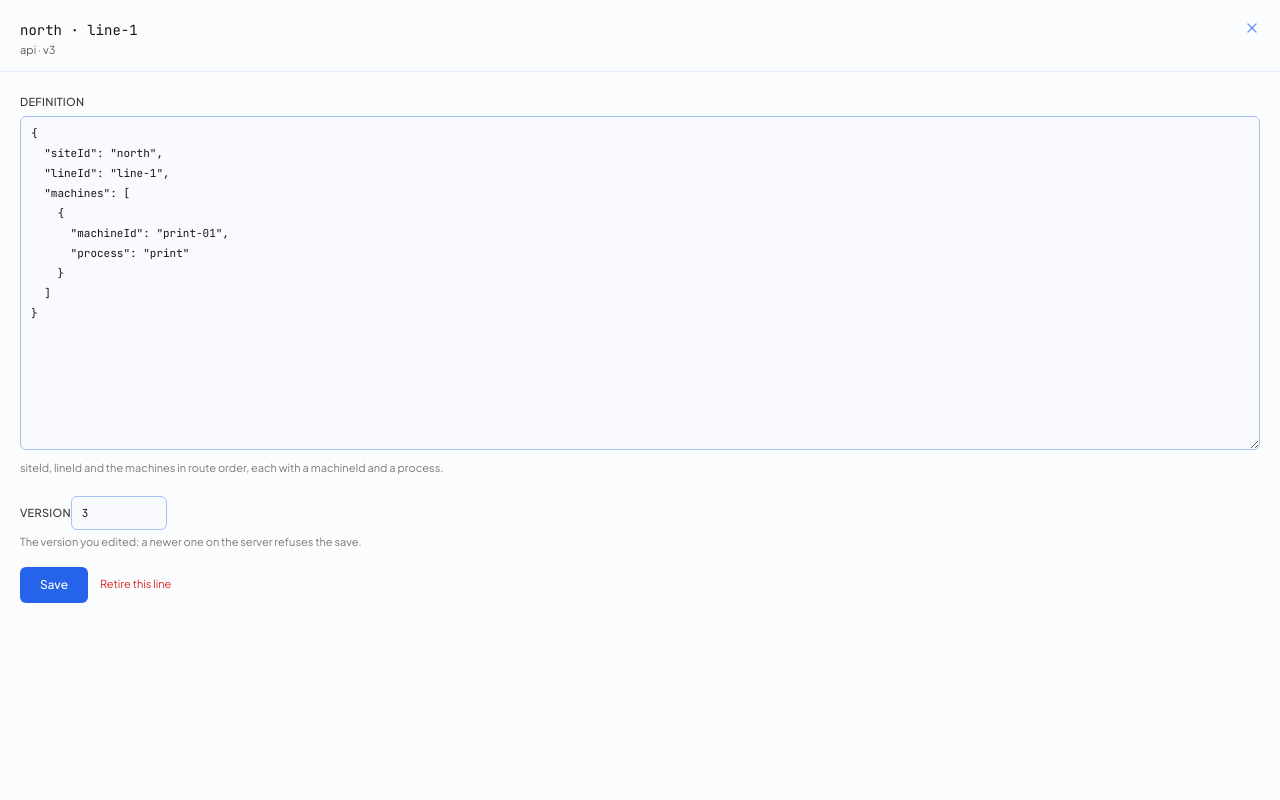
Test: LineDeclarePanel › edits a stored line with its version and says when the server refused
Expected: the text "north · line-1" is shown, [20,20,138,40]
Expected: the field labelled "Version" holds "3", [71,496,167,530]
Click the button "Save". click: (54, 584)
box: [20,566,88,602]
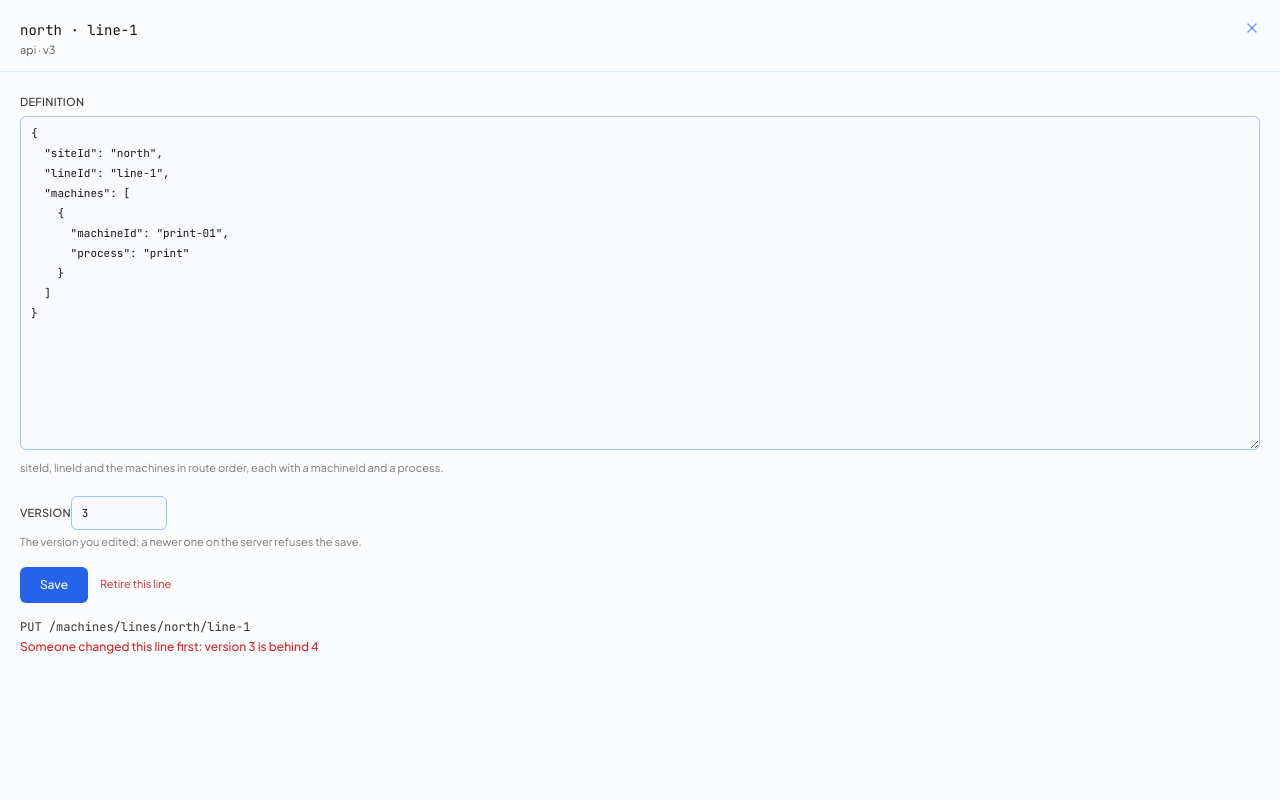
Now the element with test id "declare-outcome" shows "Someone changed this line first", box [20,638,319,654]
